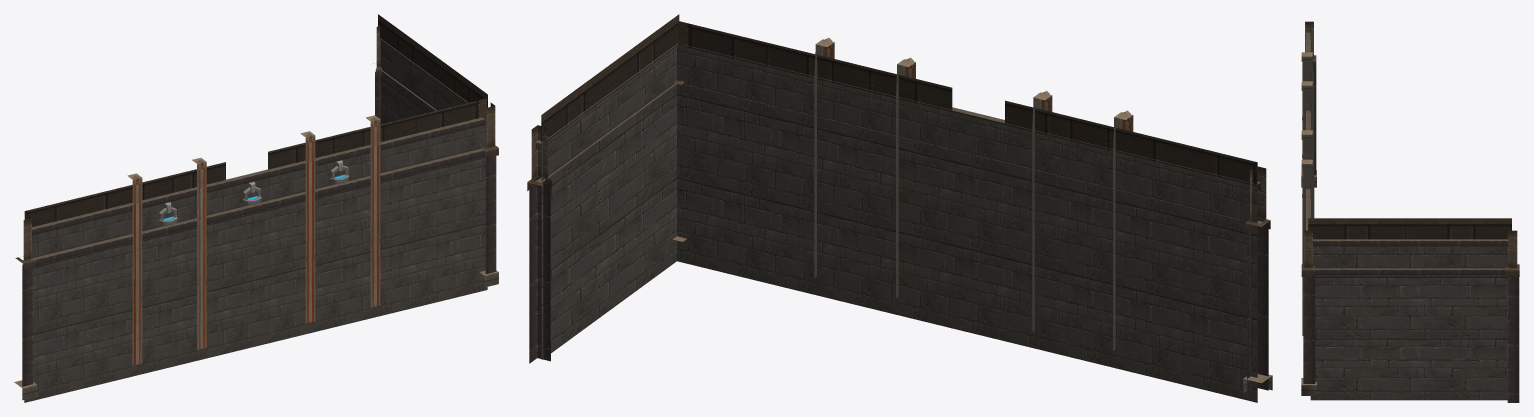
The model's file is terrain_section03_guanka1305.FBX.
3 views of the same model, side by side, from view 1: azimuth 30°, elevation 25°; view 2: azimuth 150°, elevation 25°; view 3: azimuth 270°, elevation 25° (orthographic). The views are drawn at different scales.
Visible parts, largest first — view 1: terrain_section03_guanka1305; view 2: terrain_section03_guanka1305; view 3: terrain_section03_guanka1305.
Part boxes in pixels (bbox=[...]): terrain_section03_guanka1305: bbox=[14, 14, 498, 402]; terrain_section03_guanka1305: bbox=[527, 14, 1272, 402]; terrain_section03_guanka1305: bbox=[1301, 21, 1519, 402].
Bounding box in the file's own units: 68.36 × 27.92 × 29.3.
